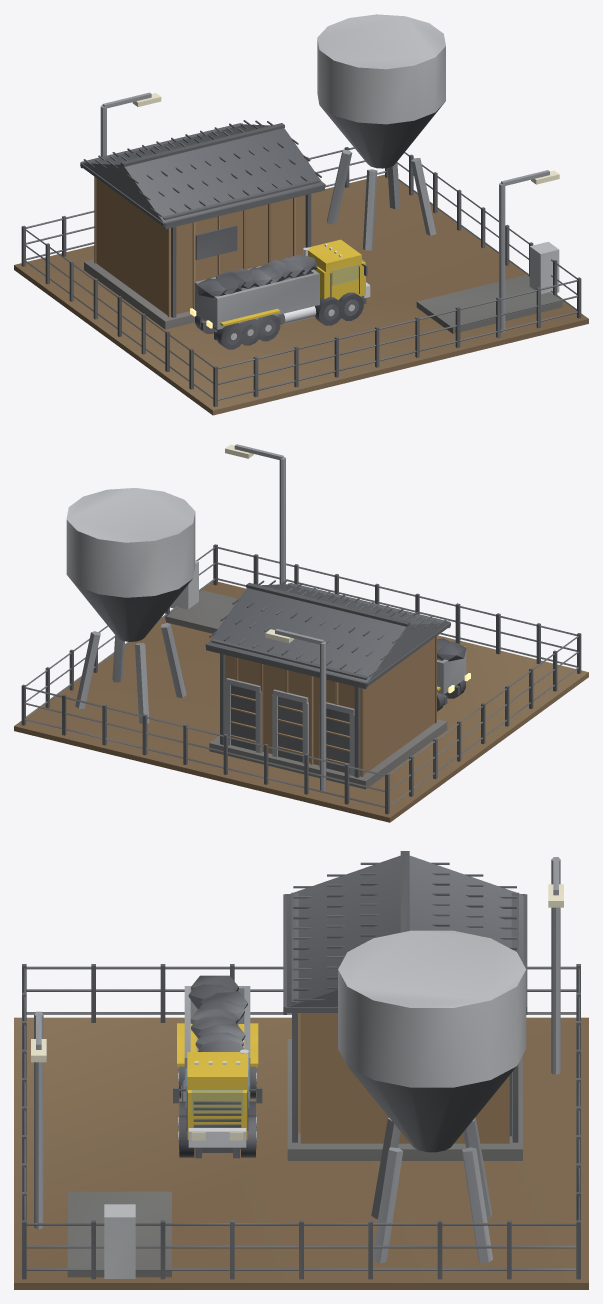
File: Haul_P1.fbx
3 views of the same model, one above another, from view 1: azimuth 30°, elevation 25°; view 2: azimuth 150°, elevation 25°; view 3: azimuth 270°, elevation 25° (orthographic). The views are drawn at different scales.
Parts seen in each view (by area): view 1: Haul.Yard, Haul.Workshop, Haul.Hopper, Haul.Parked0, Haul.Fence, Haul.Weighbridge, Haul.Lamp0, Haul.Lamp1; view 2: Haul.Workshop, Haul.Yard, Haul.Hopper, Haul.Fence, Haul.Weighbridge, Haul.Parked0, Haul.Lamp1, Haul.Lamp0; view 3: Haul.Yard, Haul.Hopper, Haul.Workshop, Haul.Parked0, Haul.Fence, Haul.Weighbridge, Haul.Lamp1, Haul.Lamp0.
Boxes of the visible parts, x1=… form: Haul.Yard: x1=14, y1=174, x2=588, y2=415; Haul.Workshop: x1=80, y1=120, x2=325, y2=329; Haul.Hopper: x1=317, y1=14, x2=445, y2=250; Haul.Parked0: x1=190, y1=239, x2=370, y2=349; Haul.Fence: x1=21, y1=147, x2=581, y2=406; Haul.Weighbridge: x1=416, y1=241, x2=562, y2=333; Haul.Lamp0: x1=499, y1=170, x2=559, y2=332; Haul.Lamp1: x1=100, y1=92, x2=161, y2=156; Haul.Workshop: x1=205, y1=579, x2=450, y2=789; Haul.Yard: x1=14, y1=581, x2=588, y2=822; Haul.Hopper: x1=66, y1=488, x2=195, y2=723; Haul.Fence: x1=21, y1=544, x2=581, y2=814; Haul.Weighbridge: x1=166, y1=560, x2=237, y2=633; Haul.Parked0: x1=437, y1=638, x2=470, y2=711; Haul.Lamp1: x1=265, y1=628, x2=326, y2=791; Haul.Lamp0: x1=225, y1=444, x2=285, y2=584; Haul.Yard: x1=14, y1=1017, x2=588, y2=1289; Haul.Hopper: x1=338, y1=930, x2=526, y2=1263; Haul.Workshop: x1=283, y1=851, x2=527, y2=1160; Haul.Parked0: x1=173, y1=975, x2=262, y2=1158; Haul.Fence: x1=22, y1=964, x2=580, y2=1279; Haul.Weighbridge: x1=67, y1=1191, x2=171, y2=1278; Haul.Lamp1: x1=548, y1=857, x2=563, y2=1074; Haul.Lamp0: x1=31, y1=1011, x2=46, y2=1229.
Size of the model in its own units: 2410 by 1167 by 2200.
